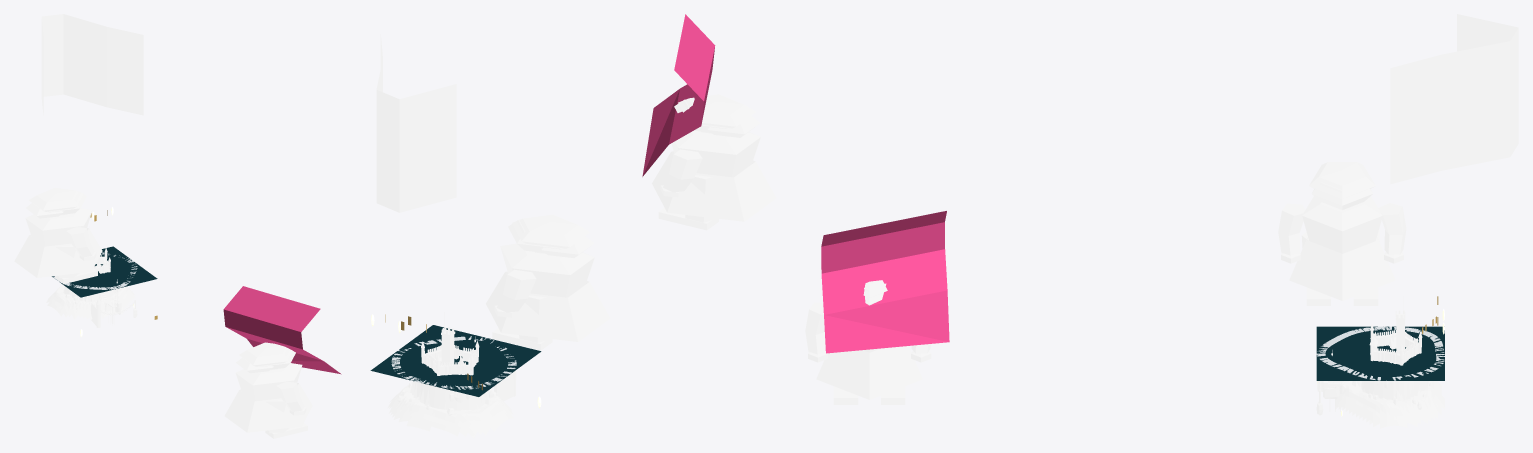
File: ile-forteresse-v5-leger.glb
3 renders of one model, left to right at view 1: azimuth 30°, elevation 25°; view 2: azimuth 150°, elevation 25°; view 3: azimuth 270°, elevation 25°, orthographic. The views are drawn at different scales.
Visible parts, largest first — view 1: ile_anime0.041, ile_anime2.041, ile_anime1.041, ile_banniere0.027, ile_corps.041, ile_libre0.039; view 2: ile_anime2.041, ile_anime1.041, ile_anime0.041, ile_corps.041, ile_libre0.039, ile_banniere0.027; view 3: ile_anime0.041, ile_banniere0.027, ile_anime2.041, ile_anime1.041, ile_corps.041, ile_libre0.039.
Boxes of the visible parts, left/top/right/bottom form: ile_anime0.041: left=41, top=14, right=143, bottom=115; ile_anime2.041: left=14, top=187, right=102, bottom=284; ile_anime1.041: left=224, top=342, right=312, bottom=438; ile_banniere0.027: left=223, top=286, right=341, bottom=374; ile_corps.041: left=46, top=226, right=137, bottom=327; ile_libre0.039: left=52, top=246, right=157, bottom=297; ile_anime2.041: left=486, top=214, right=610, bottom=350; ile_anime1.041: left=652, top=94, right=776, bottom=230; ile_anime0.041: left=376, top=34, right=456, bottom=212; ile_corps.041: left=387, top=312, right=516, bottom=438; ile_libre0.039: left=370, top=325, right=541, bottom=396; ile_banniere0.027: left=642, top=14, right=715, bottom=176; ile_anime0.041: left=1390, top=14, right=1518, bottom=184; ile_banniere0.027: left=821, top=211, right=949, bottom=353; ile_anime2.041: left=1278, top=162, right=1406, bottom=305; ile_anime1.041: left=805, top=280, right=931, bottom=404; ile_corps.041: left=1316, top=296, right=1444, bottom=428; ile_libre0.039: left=1316, top=326, right=1444, bottom=380.
Bounding box in the file's own units: 3.56 × 6.52 × 11.13.
